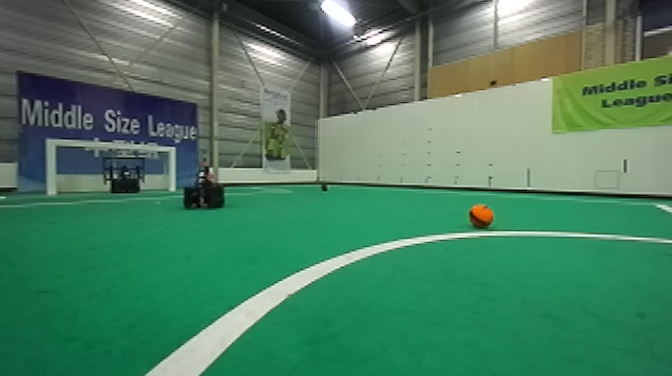ball: (466, 200, 496, 232), (315, 178, 331, 193)
goal: (43, 136, 177, 197)
goalpost: (43, 136, 58, 197), (166, 144, 176, 194)
robot: (180, 149, 227, 212), (102, 153, 147, 197)
